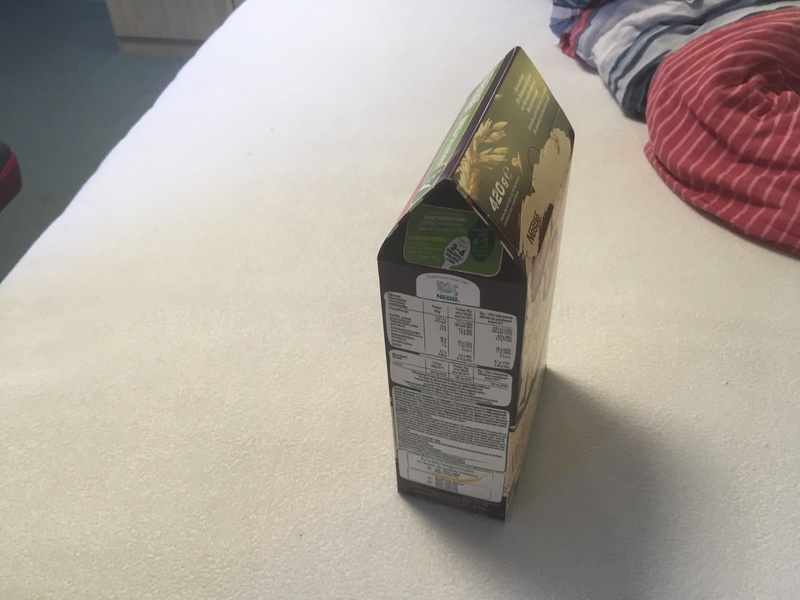cereals: (376, 46, 575, 524)
